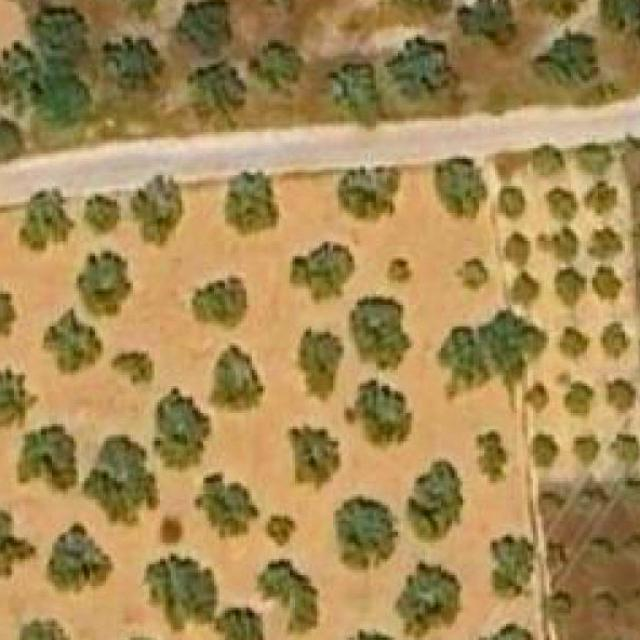Tree: (439, 314, 547, 392), (84, 435, 158, 524), (398, 562, 466, 638), (344, 380, 414, 451), (403, 460, 463, 540), (257, 559, 320, 635), (335, 494, 398, 570), (154, 389, 212, 470), (349, 294, 409, 370), (385, 38, 455, 103), (290, 240, 358, 305), (100, 34, 166, 100), (196, 472, 260, 540), (147, 556, 212, 622), (527, 29, 598, 87), (73, 250, 133, 316), (19, 424, 77, 492), (44, 308, 104, 373), (209, 346, 266, 414), (131, 175, 185, 246), (288, 422, 342, 492), (17, 189, 75, 254), (170, 0, 235, 57), (295, 330, 344, 405), (225, 172, 282, 234), (28, 70, 93, 124), (28, 5, 88, 63), (436, 156, 488, 222), (187, 61, 247, 116), (331, 67, 388, 124), (192, 276, 250, 330), (490, 535, 536, 603), (457, 0, 520, 49), (250, 40, 304, 97), (338, 166, 392, 218), (55, 530, 104, 584), (0, 510, 36, 581), (0, 370, 39, 432), (601, 0, 640, 49), (474, 432, 509, 484), (0, 43, 30, 102), (214, 607, 260, 640), (84, 193, 120, 234), (555, 267, 587, 310), (587, 227, 623, 263), (19, 618, 77, 640), (111, 353, 152, 384), (509, 272, 542, 310), (573, 145, 614, 175), (600, 321, 630, 362), (266, 510, 298, 548), (603, 378, 636, 414), (585, 181, 617, 216), (592, 267, 623, 303), (565, 381, 596, 416), (0, 121, 22, 170), (560, 327, 590, 362), (530, 0, 588, 18), (549, 229, 580, 262), (459, 259, 490, 292), (546, 189, 576, 222), (533, 145, 565, 175), (504, 233, 531, 268), (477, 624, 534, 640), (573, 480, 603, 510), (531, 435, 558, 467), (0, 291, 17, 340), (398, 0, 452, 15), (246, 0, 306, 13), (500, 188, 526, 218), (612, 434, 639, 462), (592, 589, 620, 616), (338, 629, 406, 640), (526, 383, 550, 413), (590, 539, 612, 570), (574, 438, 599, 465), (547, 594, 572, 620), (387, 260, 412, 284), (546, 543, 565, 573), (115, 0, 163, 11), (619, 483, 640, 508), (162, 519, 182, 544), (627, 591, 640, 622), (625, 537, 640, 562), (538, 494, 560, 510), (633, 184, 640, 227)
